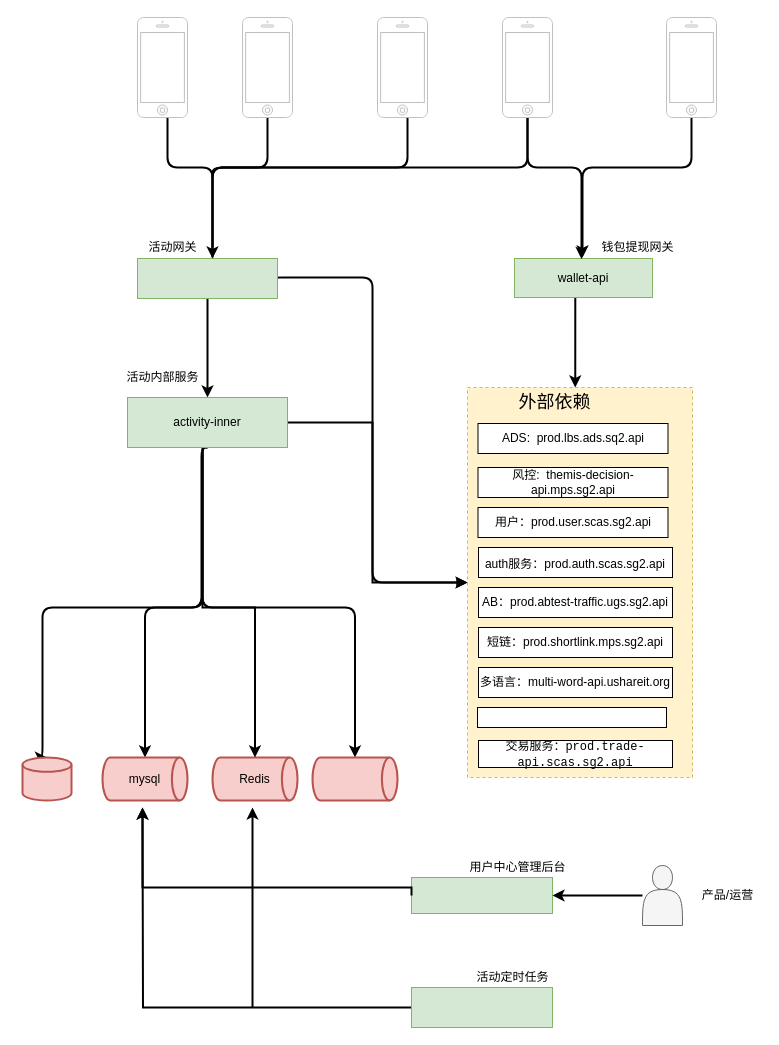
Some shapes in this 779 by 1045 pixel diagram are drawn without their labels. The shapes that lost their labels are listed below. From the top down, each one's centre as x and y in pixels, then its label:
point (207, 278): activity-api
point (571, 717): 账户：prod.account.scas.sg2.api
point (46, 778): Sharestore
point (354, 778): mongo
point (481, 895): activity-admin
point (481, 1007): activity-task
